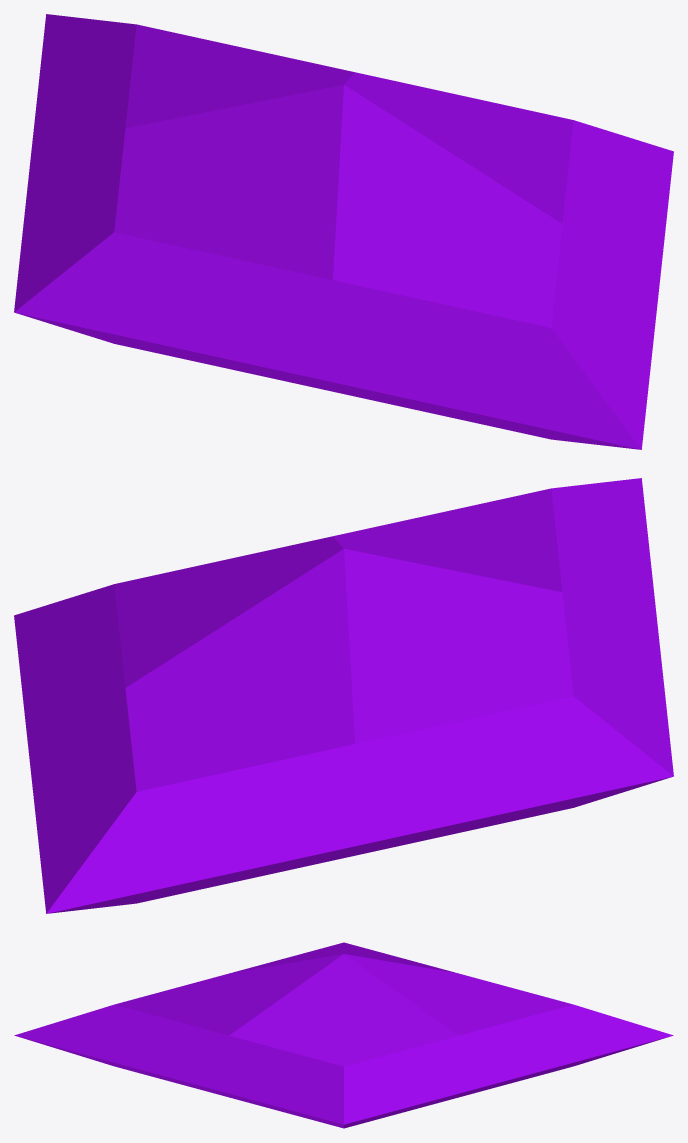
Rendered from diamond.fbx.
3 renders of one model, top to bottom at view 1: azimuth 30°, elevation 25°; view 2: azimuth 150°, elevation 25°; view 3: azimuth 270°, elevation 25°, orthographic. The views are drawn at different scales.
Parts seen in each view (by area): view 1: pCube2; view 2: pCube2; view 3: pCube2.
Boxes of the visible parts, bbox=[...] form: pCube2: bbox=[14, 14, 673, 449]; pCube2: bbox=[14, 478, 673, 913]; pCube2: bbox=[14, 942, 673, 1128].
Size of the model in its own units: 1.98 by 0.8453 by 3.1.
